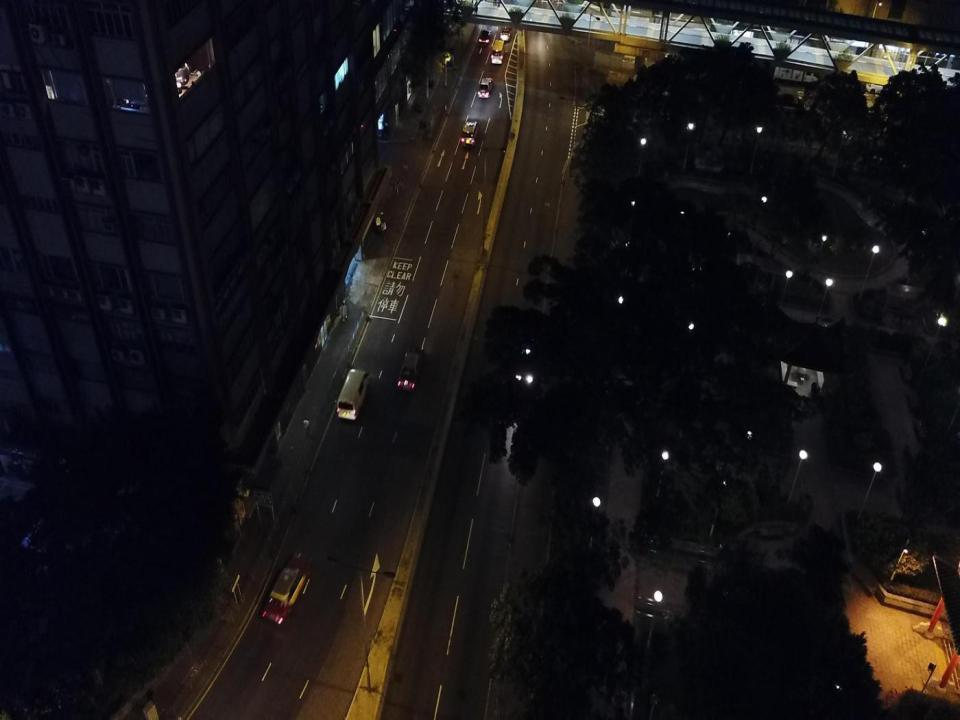car: (261, 551, 312, 626), (515, 337, 542, 392), (397, 345, 424, 392), (864, 68, 902, 97), (461, 121, 480, 148), (478, 78, 493, 98), (500, 24, 512, 42), (480, 29, 492, 46)
truck: (771, 54, 819, 86)
van: (336, 368, 369, 422), (492, 40, 505, 64)
